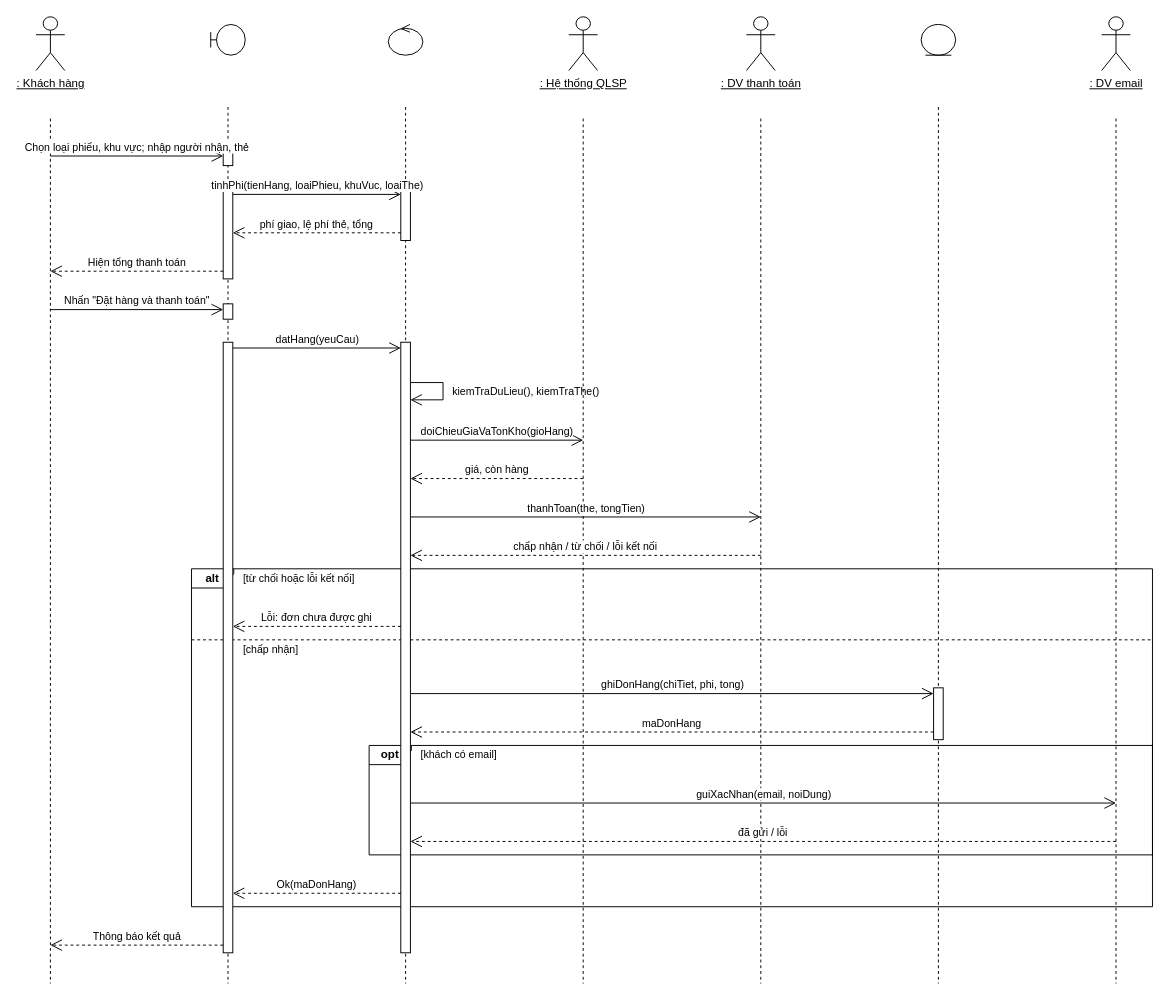
Image size: 1170x1001. Some labels were removed from this diagram. The shapes that lost their labels are listed below. From the top down, each one's centre as x and y in pixels, then its label:
At (x=227, y=39): ": Màn hình đặt hàng".
At (x=405, y=39): ": Điều khiển đặt hàng".
At (x=938, y=39): ": DonDatHang".
